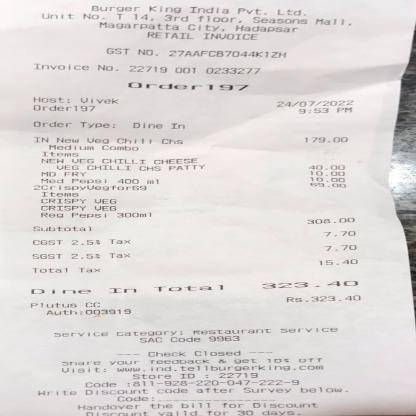receipts: (1, 3, 394, 414)
